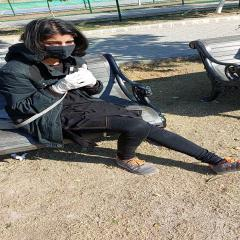gloved: (55, 72, 90, 92), (80, 64, 98, 88)
